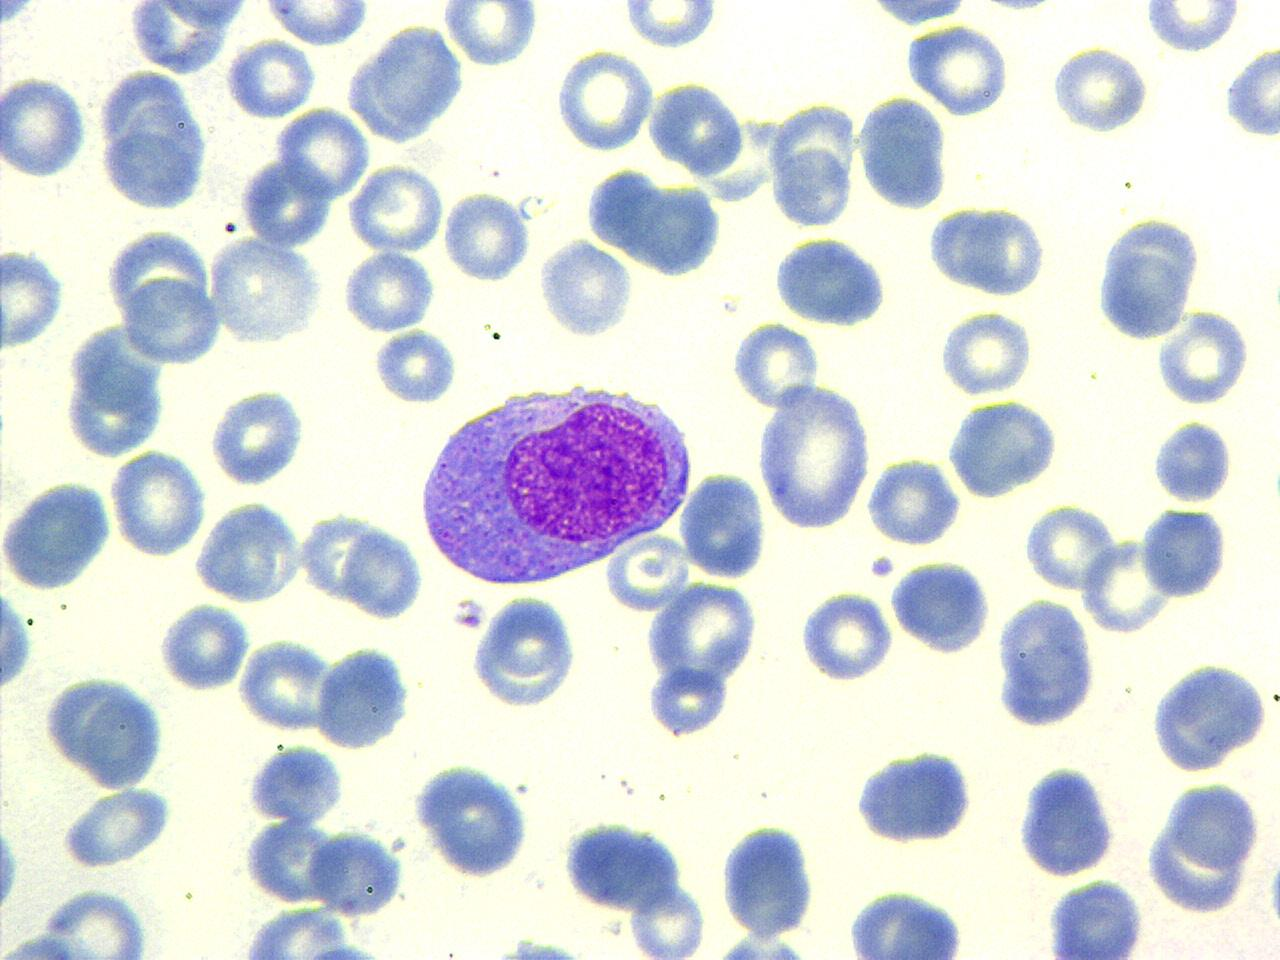Platelets: (370, 327, 460, 408), (0, 822, 21, 916), (510, 938, 584, 960), (1265, 849, 1280, 938), (450, 596, 484, 632), (978, 0, 1049, 16), (764, 938, 804, 960), (0, 0, 34, 25), (506, 938, 542, 960), (867, 553, 896, 580)
RBC: (752, 370, 873, 534), (344, 18, 462, 149), (765, 98, 860, 230), (107, 445, 211, 558), (555, 45, 656, 155), (903, 21, 1013, 119), (1152, 307, 1254, 408), (0, 70, 93, 181), (678, 469, 770, 581), (118, 274, 227, 368), (646, 79, 748, 177), (796, 586, 896, 684), (863, 453, 964, 548), (1047, 42, 1151, 134), (31, 884, 157, 959), (274, 105, 371, 202), (155, 598, 253, 694), (728, 316, 822, 414), (346, 161, 445, 254), (306, 827, 408, 918), (336, 521, 426, 623), (439, 188, 534, 284), (1020, 500, 1117, 594), (239, 634, 330, 734), (936, 308, 1035, 398), (1082, 534, 1170, 636), (339, 246, 441, 333), (223, 35, 317, 120), (370, 326, 462, 407), (602, 529, 688, 613), (439, 1, 540, 70), (628, 882, 708, 959), (1139, 0, 1245, 57), (260, 0, 372, 48), (621, 1, 722, 52)
WBC: (412, 371, 698, 590), (240, 788, 408, 928), (639, 578, 767, 743), (756, 362, 877, 534), (93, 63, 214, 216), (1142, 776, 1266, 916), (58, 319, 174, 462), (344, 18, 468, 148), (41, 669, 171, 793), (586, 170, 732, 276), (1090, 210, 1206, 342), (410, 758, 534, 882), (992, 594, 1100, 735), (1146, 656, 1272, 776), (206, 233, 330, 350), (1, 473, 118, 594), (852, 742, 980, 850), (468, 590, 581, 712), (944, 394, 1064, 503), (718, 818, 822, 942), (924, 198, 1052, 298), (190, 497, 307, 607), (560, 816, 688, 916), (1014, 760, 1120, 880), (771, 229, 892, 332), (766, 98, 858, 231), (108, 444, 209, 562), (854, 91, 952, 211), (312, 640, 414, 753), (206, 383, 311, 489), (535, 235, 639, 343), (888, 554, 994, 658), (58, 782, 178, 872), (1152, 303, 1254, 409), (902, 21, 1011, 119), (678, 468, 770, 583), (124, 270, 232, 367), (1, 71, 93, 182), (864, 450, 966, 548), (123, 0, 253, 76), (155, 599, 255, 695), (1137, 502, 1233, 602), (30, 887, 162, 959), (337, 519, 428, 622), (844, 884, 970, 959), (1042, 873, 1150, 959), (306, 825, 406, 917), (340, 247, 442, 336), (442, 186, 534, 284), (242, 740, 346, 826), (227, 906, 388, 960), (0, 242, 72, 356), (226, 35, 319, 122), (1150, 416, 1234, 505), (372, 324, 458, 407), (1139, 0, 1243, 57), (1223, 41, 1280, 144), (259, 1, 370, 48), (1, 571, 37, 711), (694, 926, 828, 958), (860, 0, 980, 31)
